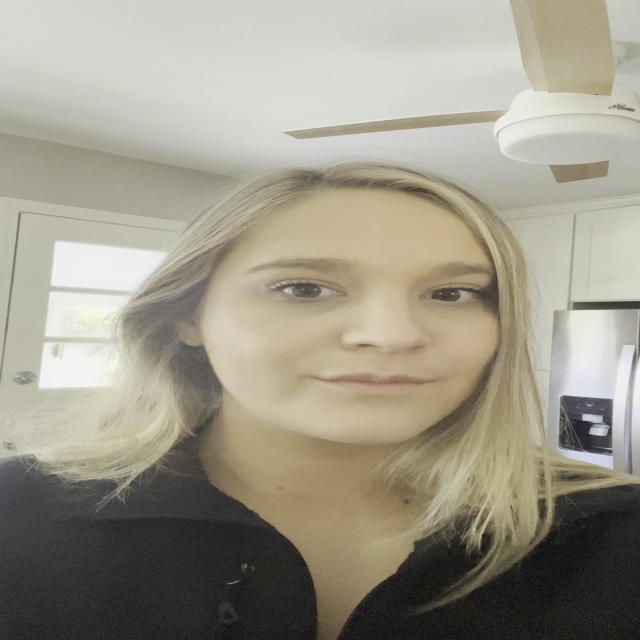no-helmet: (156, 181, 528, 474)
